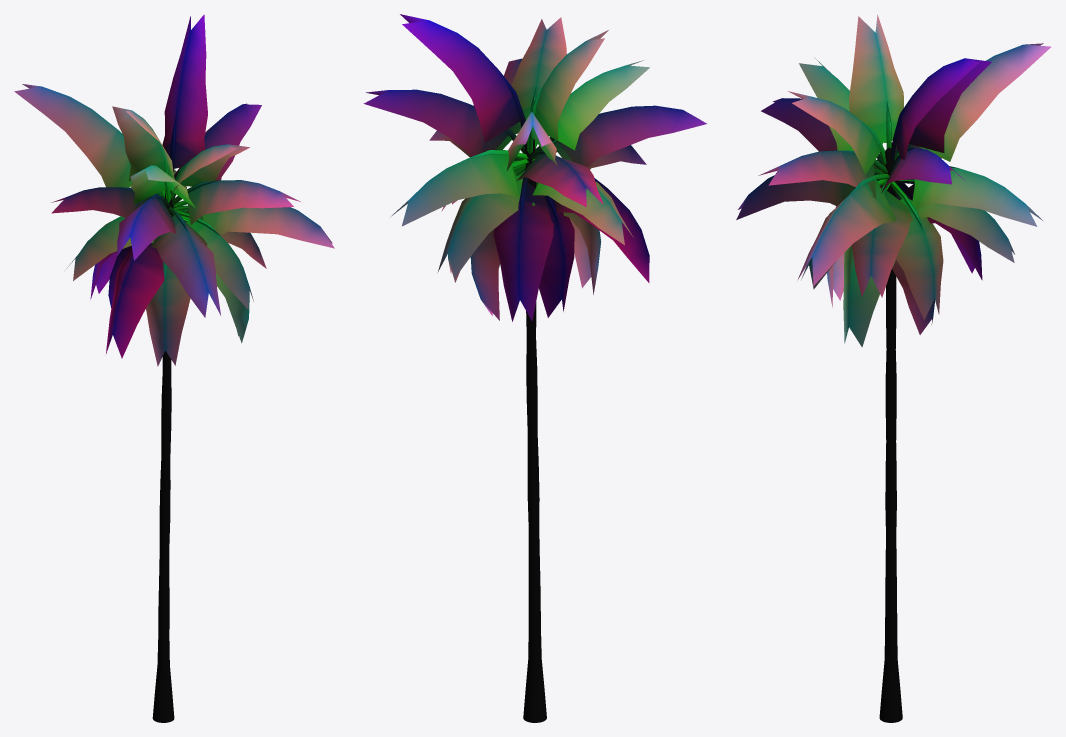
The model's file is M_Palm_1_3.fbx.
The picture shows the model from 3 angles, left to right: view 1: azimuth 30°, elevation 25°; view 2: azimuth 150°, elevation 25°; view 3: azimuth 270°, elevation 25°; orthographic projection. The views are drawn at different scales.
Visible parts, largest first — view 1: Palm_1_3; view 2: Palm_1_3; view 3: Palm_1_3.
Boxes of the visible parts, left/top/right/bottom form: Palm_1_3: left=14, top=14, right=334, bottom=722; Palm_1_3: left=363, top=14, right=706, bottom=722; Palm_1_3: left=736, top=14, right=1051, bottom=722.
Size of the model in its own units: 465 by 1237 by 507.
